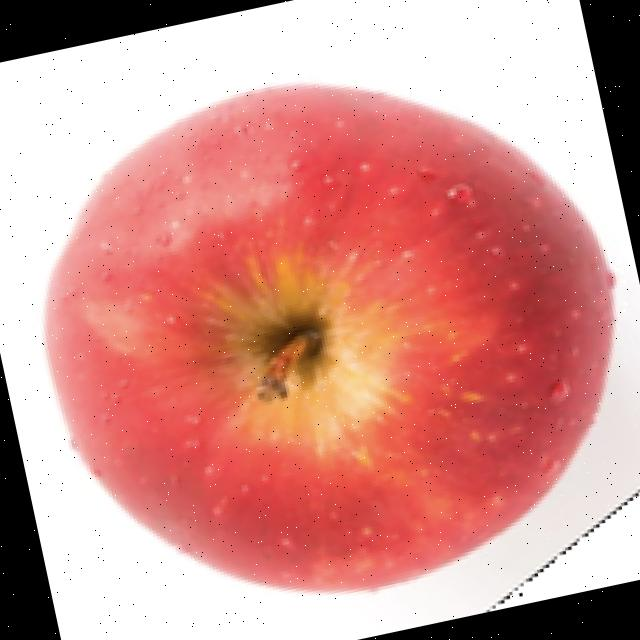apple: (36, 78, 628, 600)
